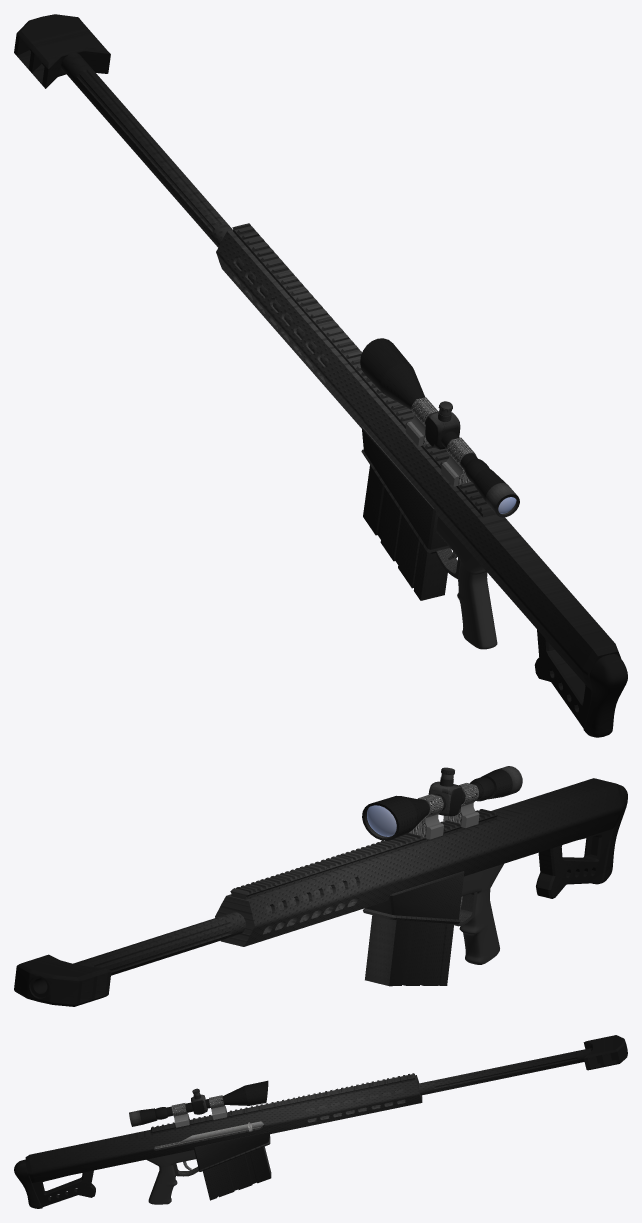
The model's file is sniper_fbx.fbx.
The picture shows the model from 3 angles, top to bottom: view 1: azimuth 30°, elevation 25°; view 2: azimuth 150°, elevation 25°; view 3: azimuth 270°, elevation 25°; orthographic projection. The views are drawn at different scales.
Parts seen in each view (by area): view 1: polySurface401, polySurface402, polySurface378, polySurface407, polySurface404, polySurface412; view 2: polySurface401, polySurface378, polySurface402, polySurface404, polySurface407, polySurface412, polySurface409; view 3: polySurface401, polySurface378, polySurface402, polySurface404, polySurface407, polySurface412, polySurface400.
Boxes of the visible parts, x1,y1,x2,y2 form: polySurface401: (14,14,627,737); polySurface402: (360,338,519,517); polySurface378: (363,465,447,600); polySurface407: (436,517,497,649); polySurface404: (361,426,449,553); polySurface412: (405,397,476,486); polySurface401: (14,778,627,1006); polySurface378: (365,915,454,986); polySurface402: (362,766,522,840); polySurface404: (363,871,464,924); polySurface407: (454,864,503,964); polySurface412: (409,783,479,839); polySurface409: (367,805,396,836); polySurface401: (14,1035,627,1208); polySurface378: (203,1146,271,1200); polySurface402: (129,1080,268,1126); polySurface404: (194,1127,270,1171); polySurface407: (146,1150,198,1204); polySurface412: (171,1095,226,1127); polySurface400: (154,1121,263,1148).
Bounding box in the file's own units: 18.54 × 81.4 × 272.
Materials: 9 (9 with a texture image).
